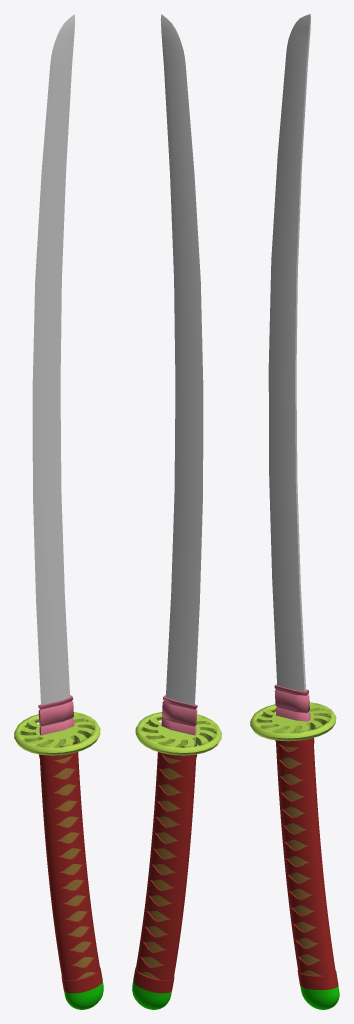
File: Katana_FBX.fbx
3 views of the same model, side by side, from view 1: azimuth 30°, elevation 25°; view 2: azimuth 150°, elevation 25°; view 3: azimuth 330°, elevation 25° (orthographic).
Visible parts, largest first — view 1: Blade_low, Connectorr_low1; view 2: Blade_low, Connectorr_low1; view 3: Blade_low, Connectorr_low1.
Part boxes in pixels (x1,y1,x2,y2): Blade_low: (32,14,75,704); Connectorr_low1: (14,695,103,1009); Blade_low: (160,14,203,704); Connectorr_low1: (132,695,221,1009); Blade_low: (268,14,310,691); Connectorr_low1: (250,684,339,1009).
Bounding box in the file's own units: 42.33 × 487 × 38.22.
